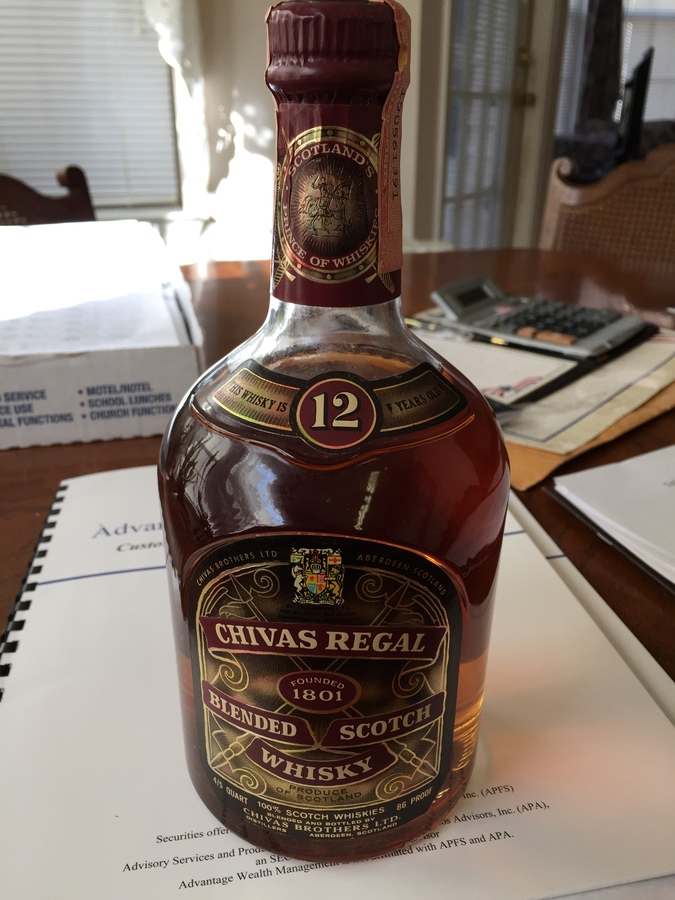Chivas Regal: (143, 1, 519, 868)
